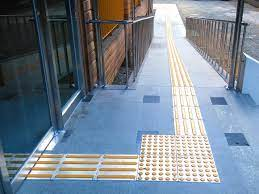guide_blocks: (43, 153, 218, 182), (173, 89, 206, 134), (142, 135, 209, 154), (168, 43, 193, 86), (164, 19, 175, 43)
